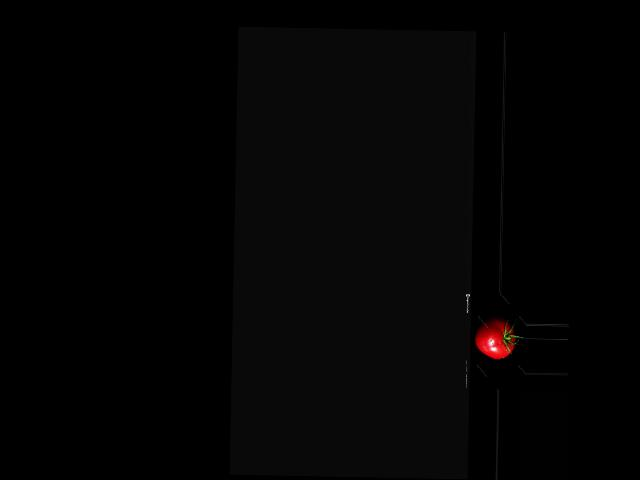tomato: (474, 316, 515, 359)
